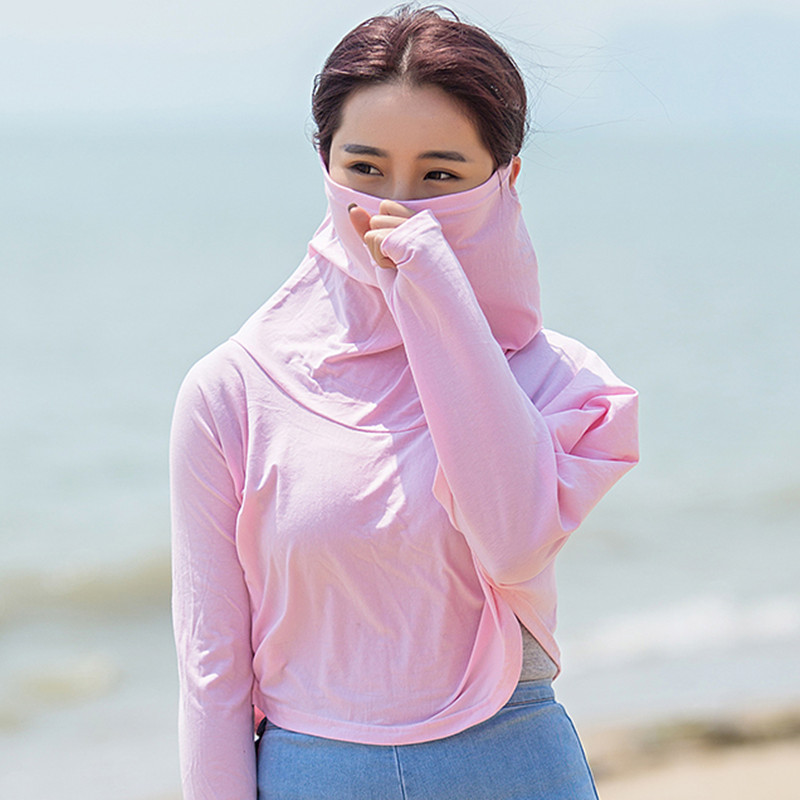face_mask: (324, 77, 497, 298)
